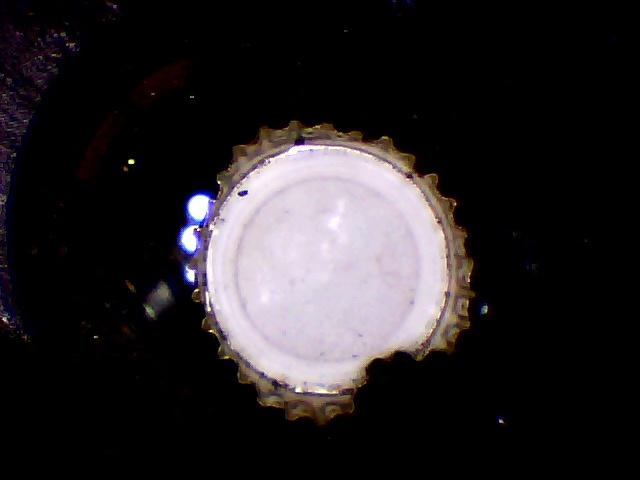capsule: (178, 114, 482, 426)
